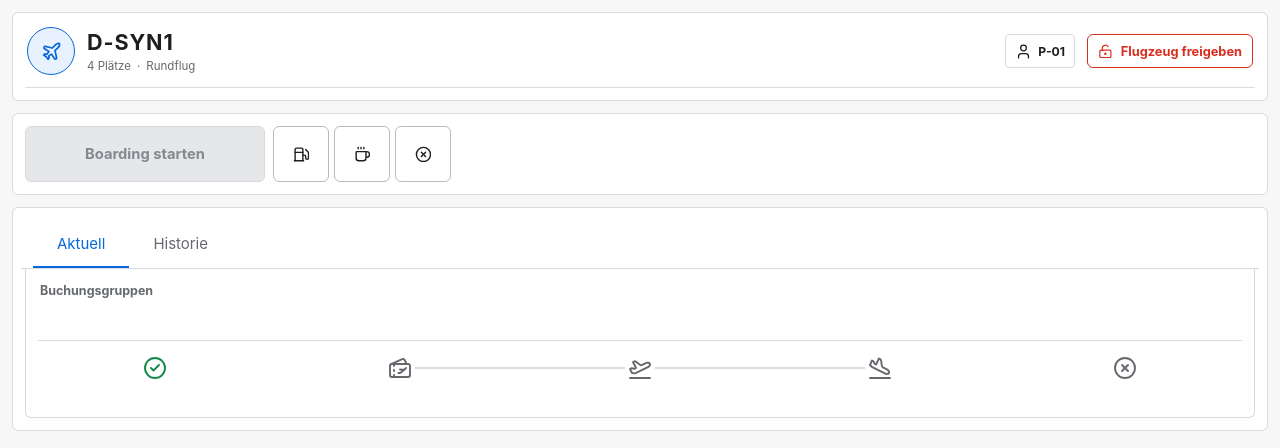
Test: flight line assist workflow › keeps a failed release claimed and reports the backend error
This screenshot has width=1280, height=448.
Click the button "Flugzeug freigeben": (1170, 51) [1087, 34, 1253, 68]
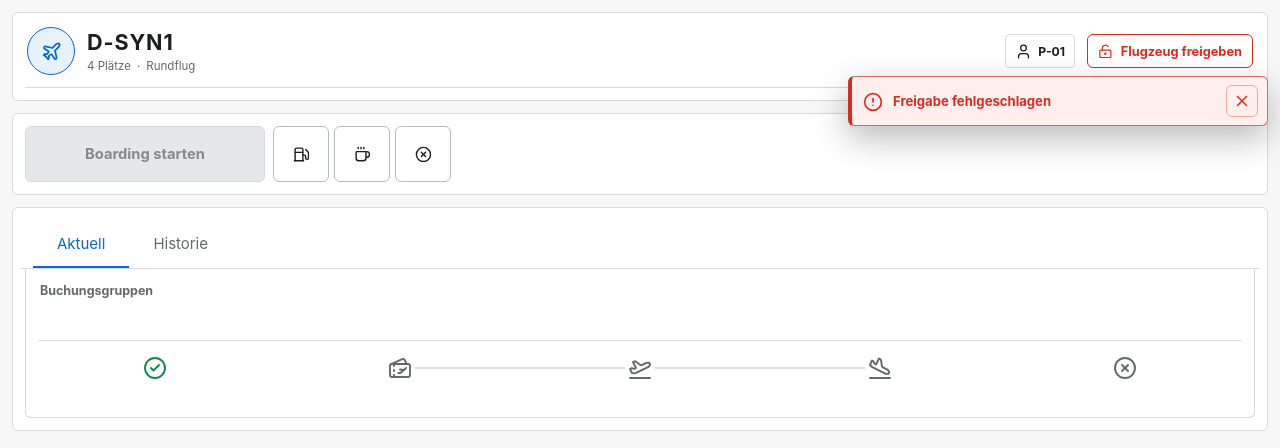
Expected: the text "Freigabe fehlgeschlagen" is shown, [893, 93, 1051, 109]
